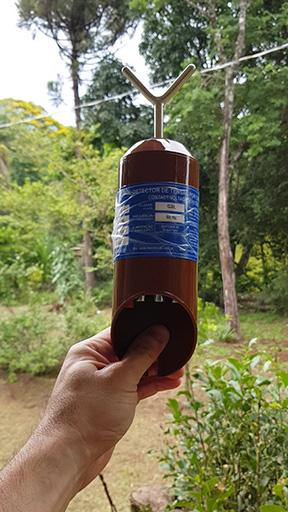Detector_Tensao_Contato: (109, 63, 201, 377)
